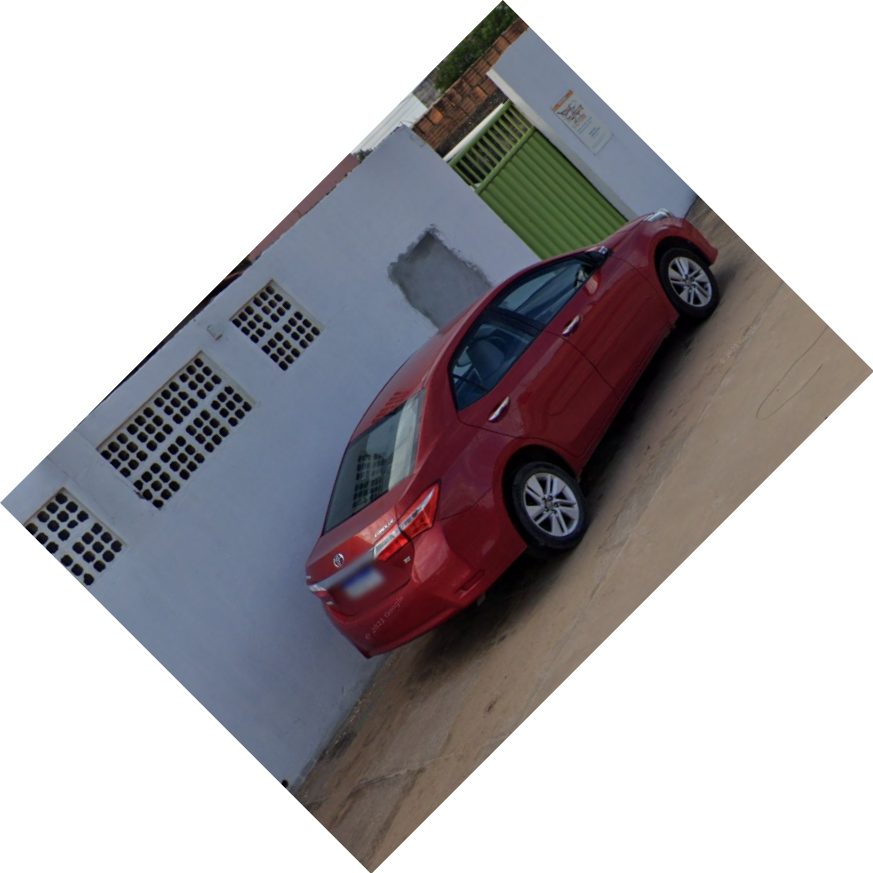car: (301, 205, 723, 658)
